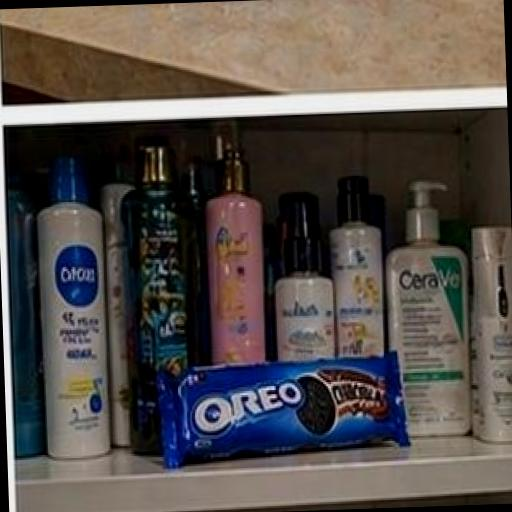oreo: (118, 287, 439, 491)
